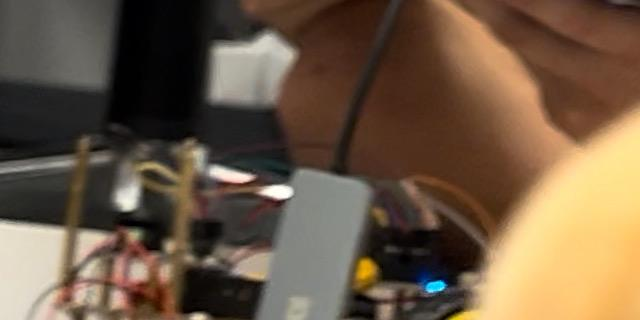burger: (372, 3, 640, 320)
